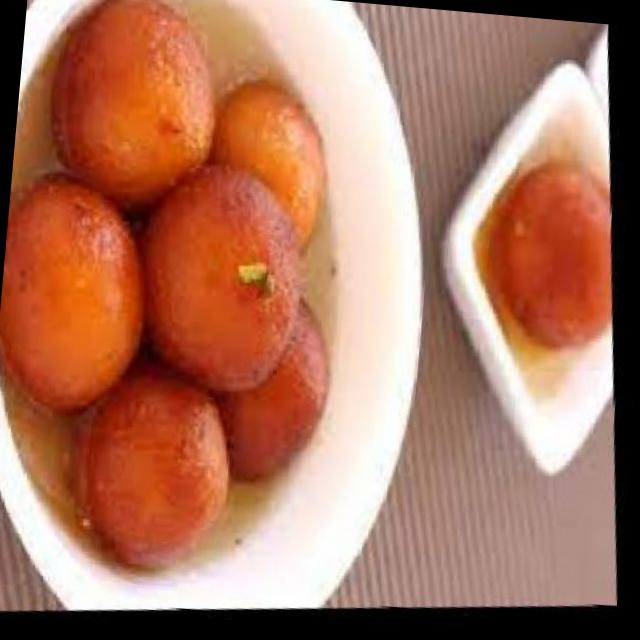gulab_jamun: (128, 162, 323, 412), (43, 0, 243, 233), (0, 163, 170, 430), (54, 357, 244, 580), (484, 168, 634, 374), (198, 292, 348, 497), (200, 80, 346, 276)
